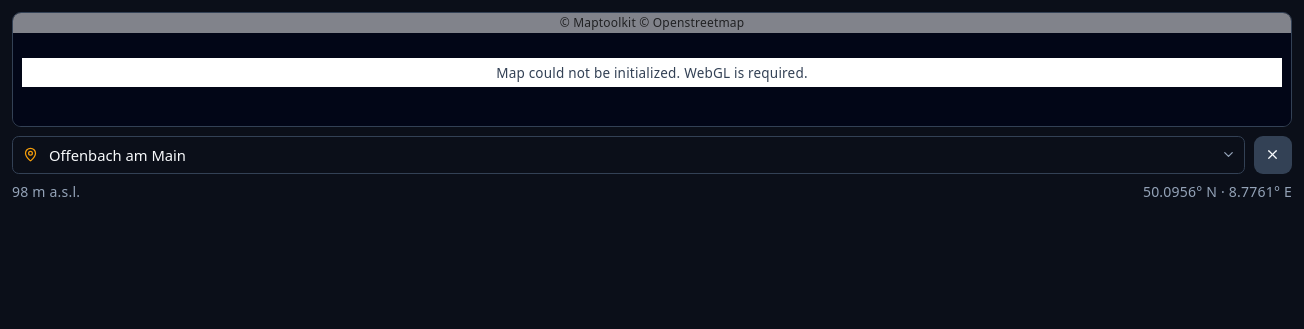
Test: LocationSelector Component › displays elevation and region/country in autocomplete suggestions
Replace the text in the field with placeholder "Search location..." with "Offenbach" at (628, 155), box [12,136,1245,174]
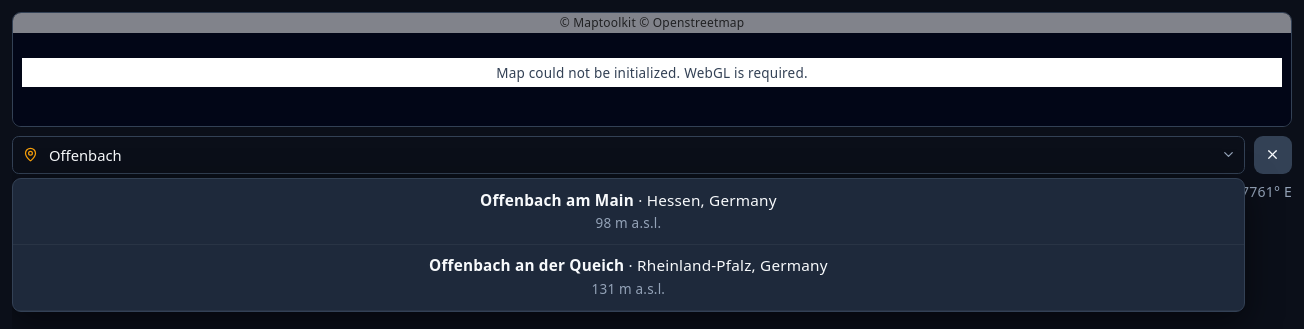
Expected: the text "Offenbach am Main" is shown, [480,190,634,210]
Expected: the text "Offenbach an der Queich" is shown, [429,255,624,275]
Expected: the text "98 m a.s.l." is shown, [596,214,661,232]
